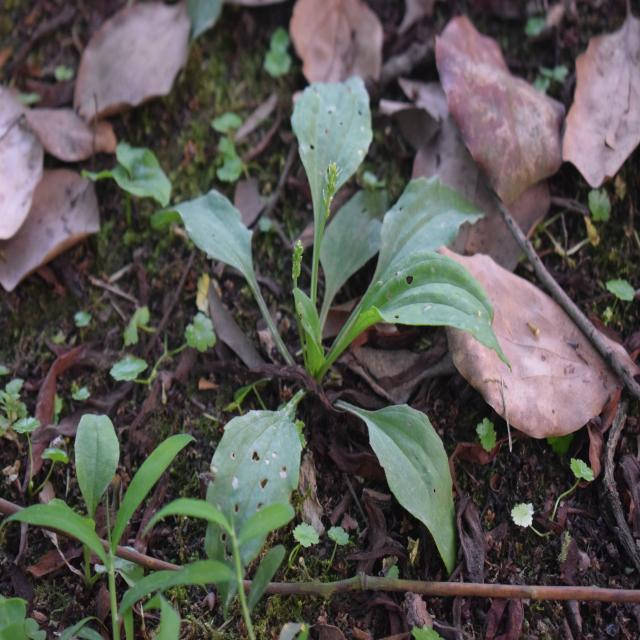plantain: (202, 73, 490, 524)
